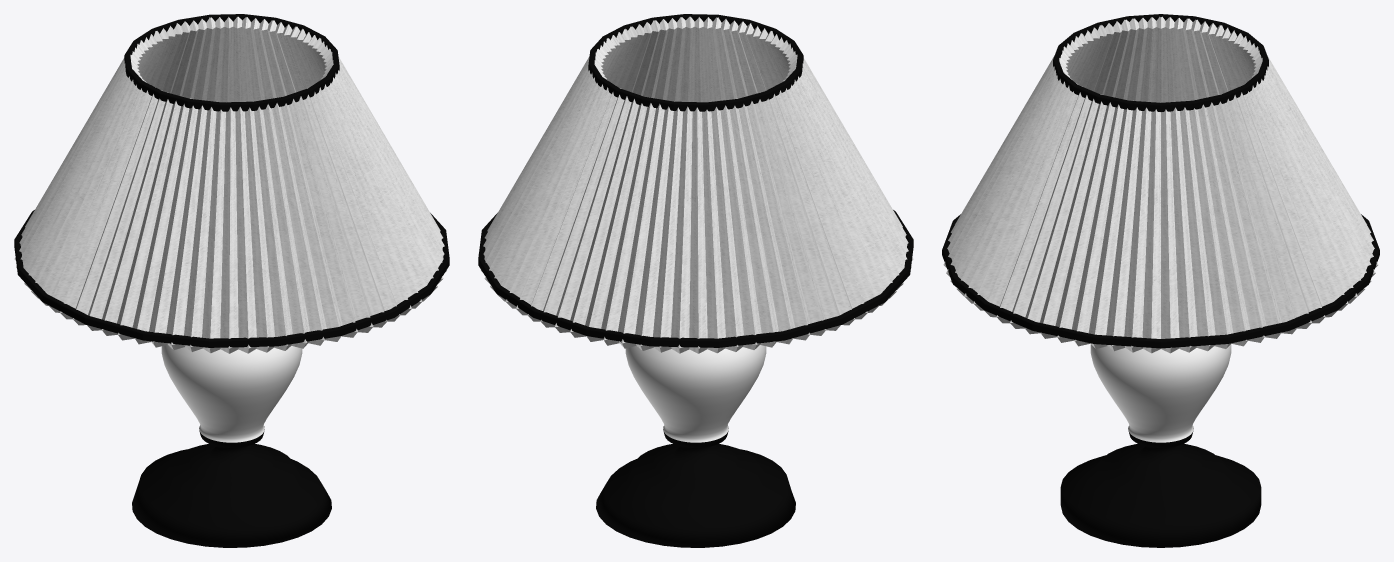
The model's file is lampara.fbx.
3 renders of one model, left to right at view 1: azimuth 30°, elevation 25°; view 2: azimuth 150°, elevation 25°; view 3: azimuth 270°, elevation 25°, orthographic.
Parts seen in each view (by area): view 1: Cylinder.003; view 2: Cylinder.003; view 3: Cylinder.003.
Boxes of the visible parts, box(x1,y1,x2,y2) form: Cylinder.003: box(14, 14, 449, 547); Cylinder.003: box(478, 14, 913, 547); Cylinder.003: box(942, 14, 1379, 547).
Bounding box in the file's own units: 40 × 45 × 40.
